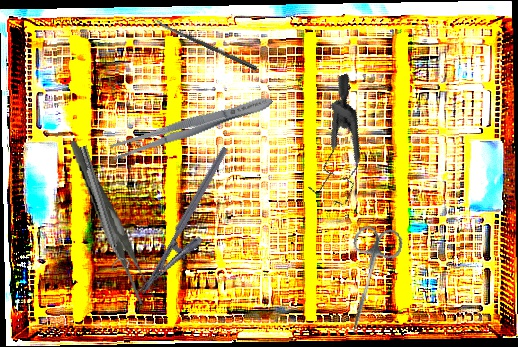Dressing Forceps: (70, 133, 156, 311), (107, 90, 276, 164)
Fixation Ring: (74, 143, 131, 273)
Iris Scissors: (331, 221, 406, 341)
Needle Holder: (137, 145, 250, 307)
Speculum: (270, 72, 399, 216)
Surgical Spoon: (153, 18, 258, 71)
